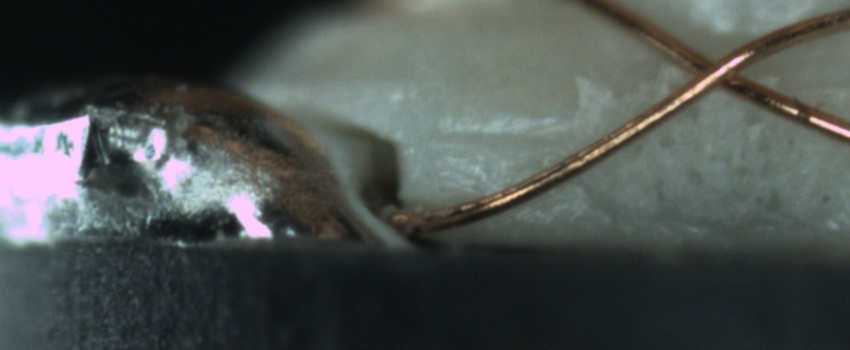CL: (663, 34, 762, 103)
DL: (428, 106, 583, 170)
